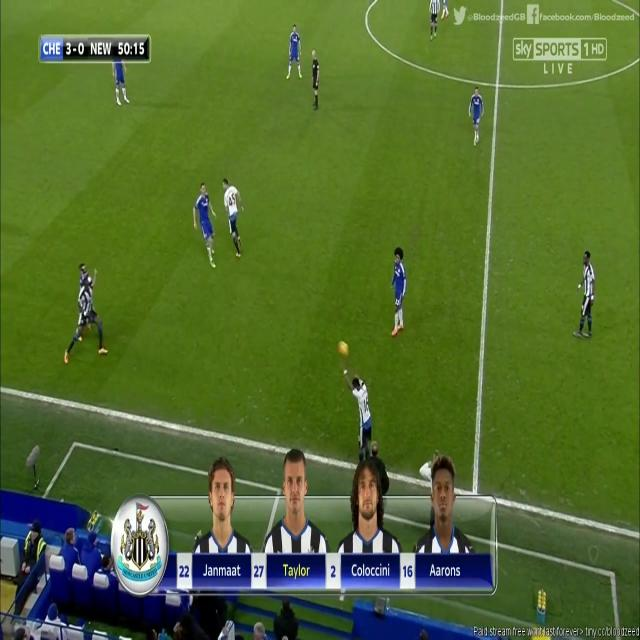Ball: (335, 338, 351, 362)
Player: (62, 259, 110, 370), (344, 368, 374, 464), (192, 182, 222, 272), (571, 248, 598, 340), (221, 174, 245, 262), (389, 243, 409, 340), (284, 21, 304, 85), (468, 85, 484, 149), (112, 61, 132, 109), (426, 0, 442, 42)
Referee: (311, 45, 320, 114)
